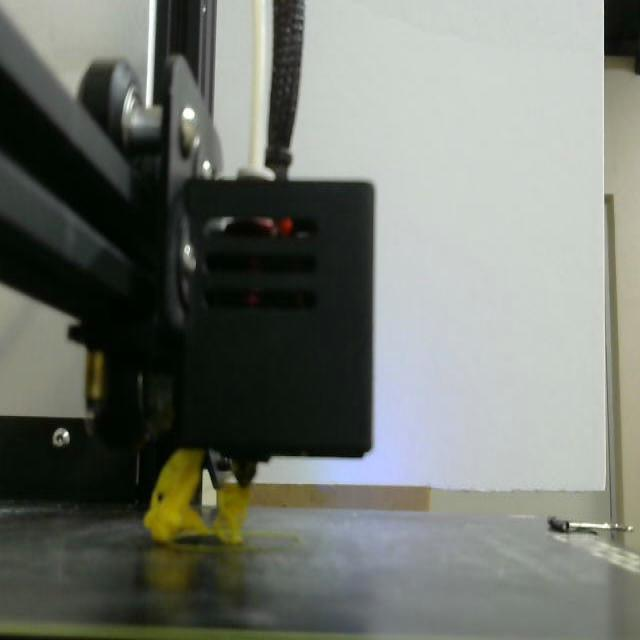spaghetti: (144, 448, 251, 543)
